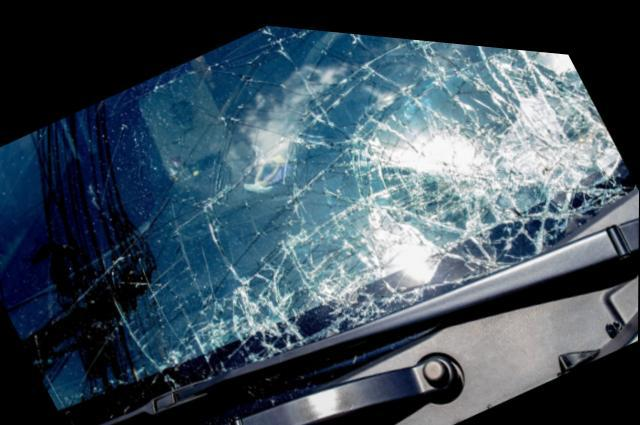glass shatter: (0, 20, 636, 425)
